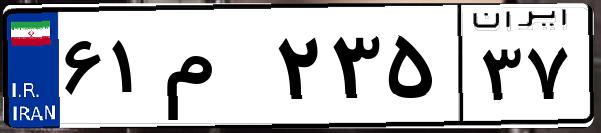1: (110, 28, 158, 98)
2: (270, 28, 330, 110)
3: (330, 28, 385, 110), (475, 38, 525, 113)
5: (385, 28, 445, 110)
6: (57, 26, 110, 100)
7: (525, 38, 570, 115)
م: (158, 20, 270, 120)
